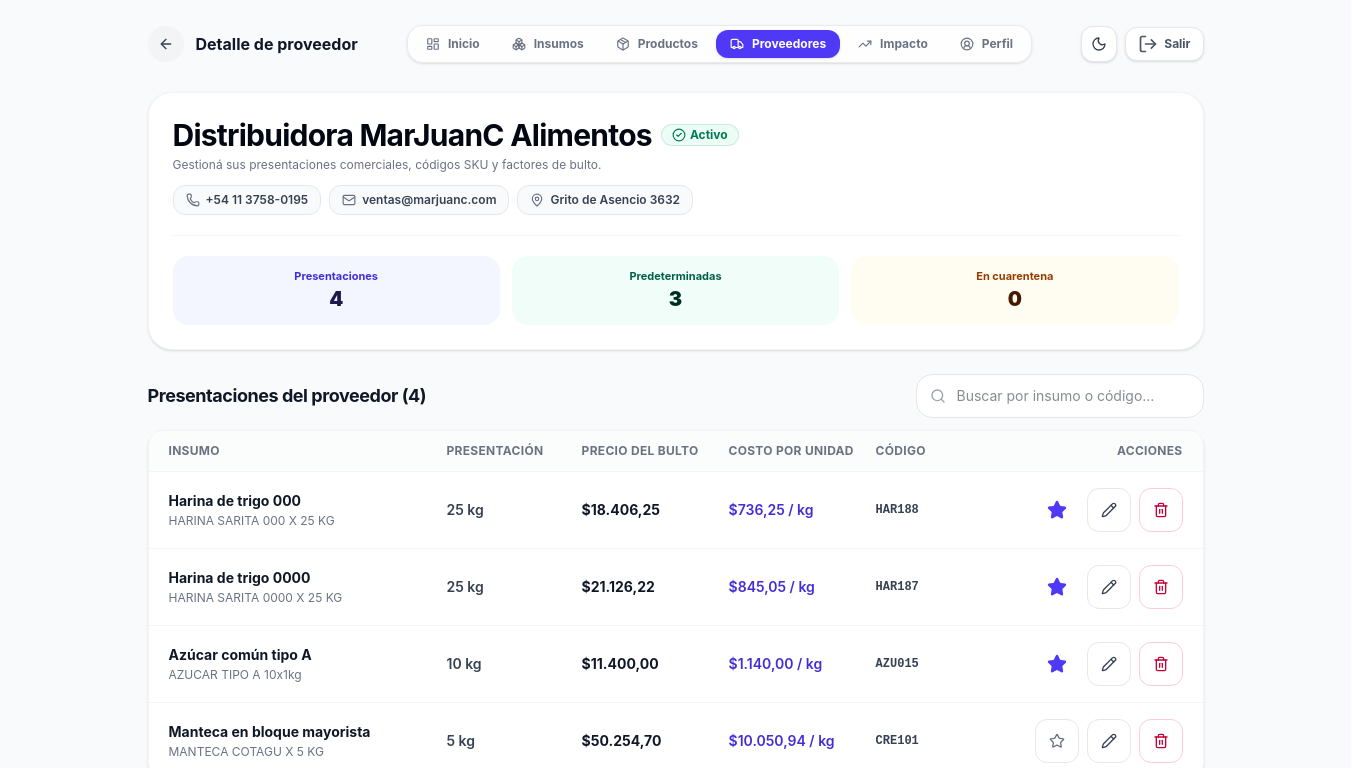
Scenario: SupplierDetailPage (/proveedores/:id) — Escenarios Gherkin › permite conmutar la presentación como predeterminada actualizando el insumo
Expected: the heading "Distribuidora MarJuanC Alimentos" is shown, [172,117,652,153]
What coordinates should you click on to do the following:
click the button named "Usar como predeterminada la presentación de Manteca"
I would click on:
 (1056, 740)
Its box is [1034,718,1078,762].
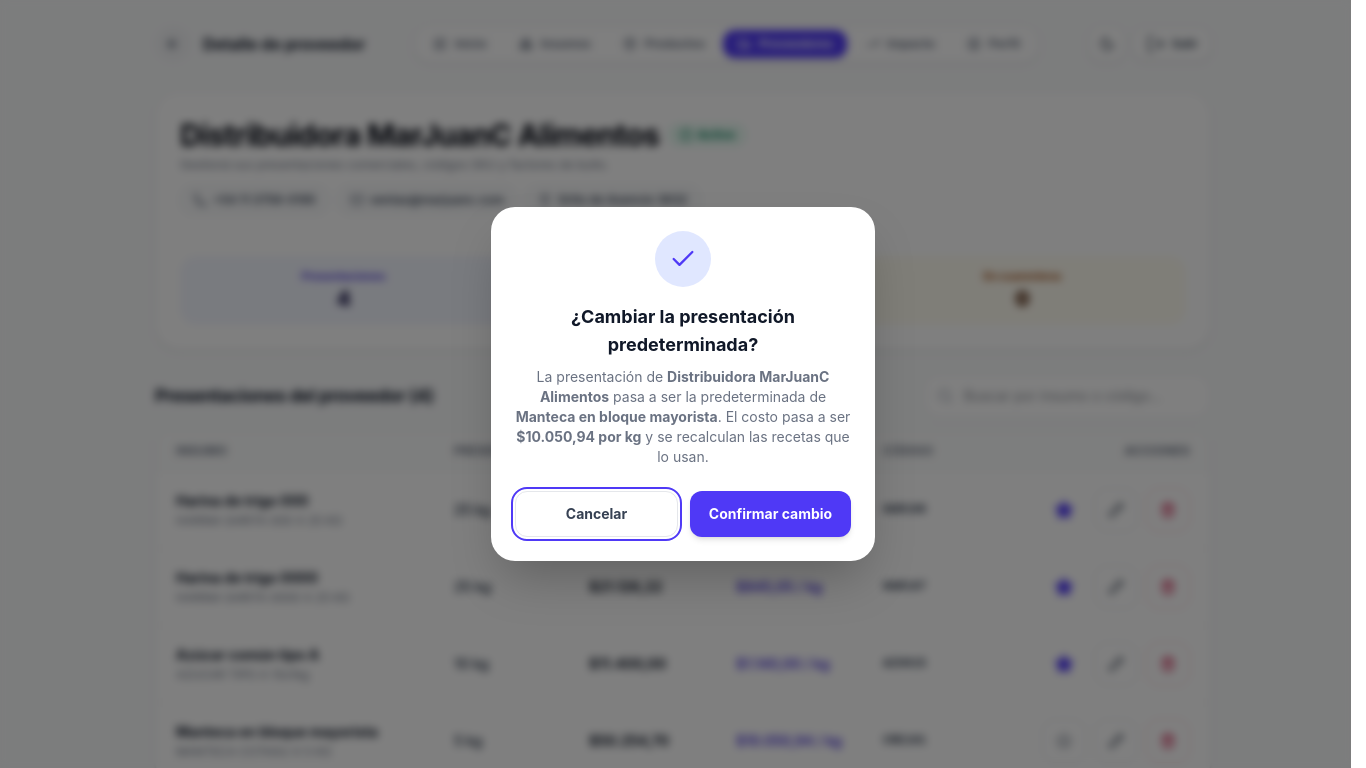
Expected: the dialog "¿Cambiar la presentación predeterminada?" shows "Manteca en bloque mayorista", [516,408,718,425]
What coordinates should you click on to do the following:
click the button "Confirmar cambio"
I would click on:
 (770, 514)
Its box is [690,491,851,537].
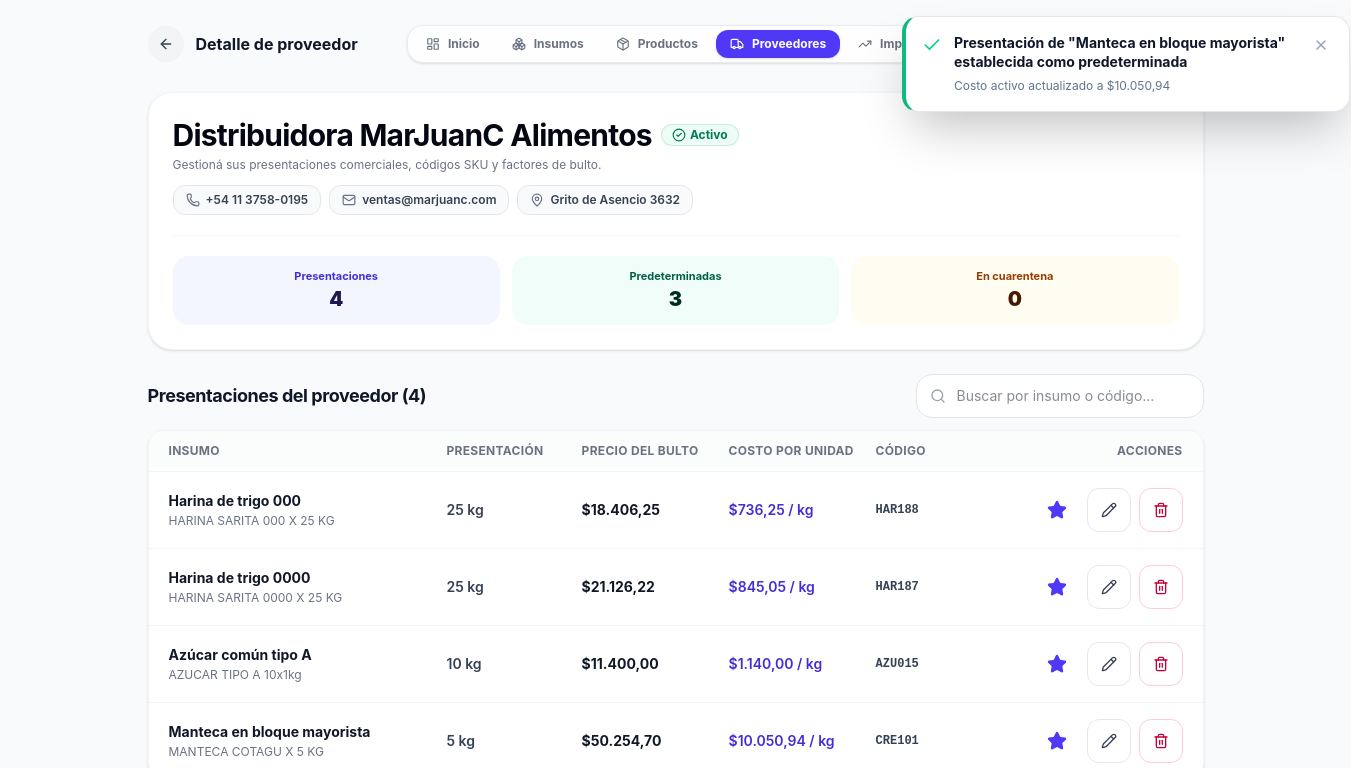
Expected: the picture named "Presentación predeterminada" in the row of "HARINA SARITA 000 X 25 KG" is shown, [1046,500,1066,520]
Expected: the text "Presentación de \"Manteca en bloque mayorista\" establecida como predeterminada" is shown, [954,33,1295,72]
Expected: the picture named "Presentación predeterminada" in the row of "MANTECA COTAGU X 5 KG" is shown, [1046,730,1066,750]
